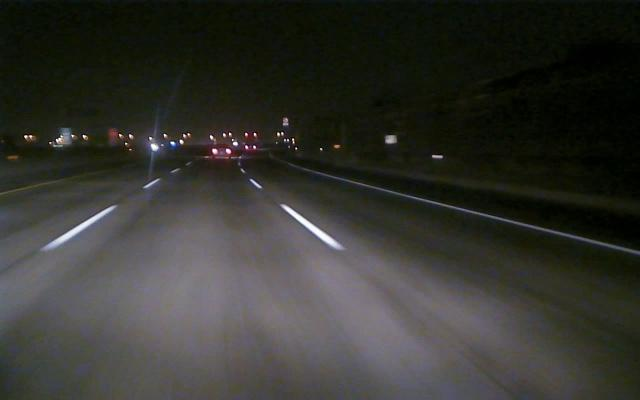lane: (288, 164, 639, 256), (36, 180, 157, 252), (248, 178, 347, 251)
